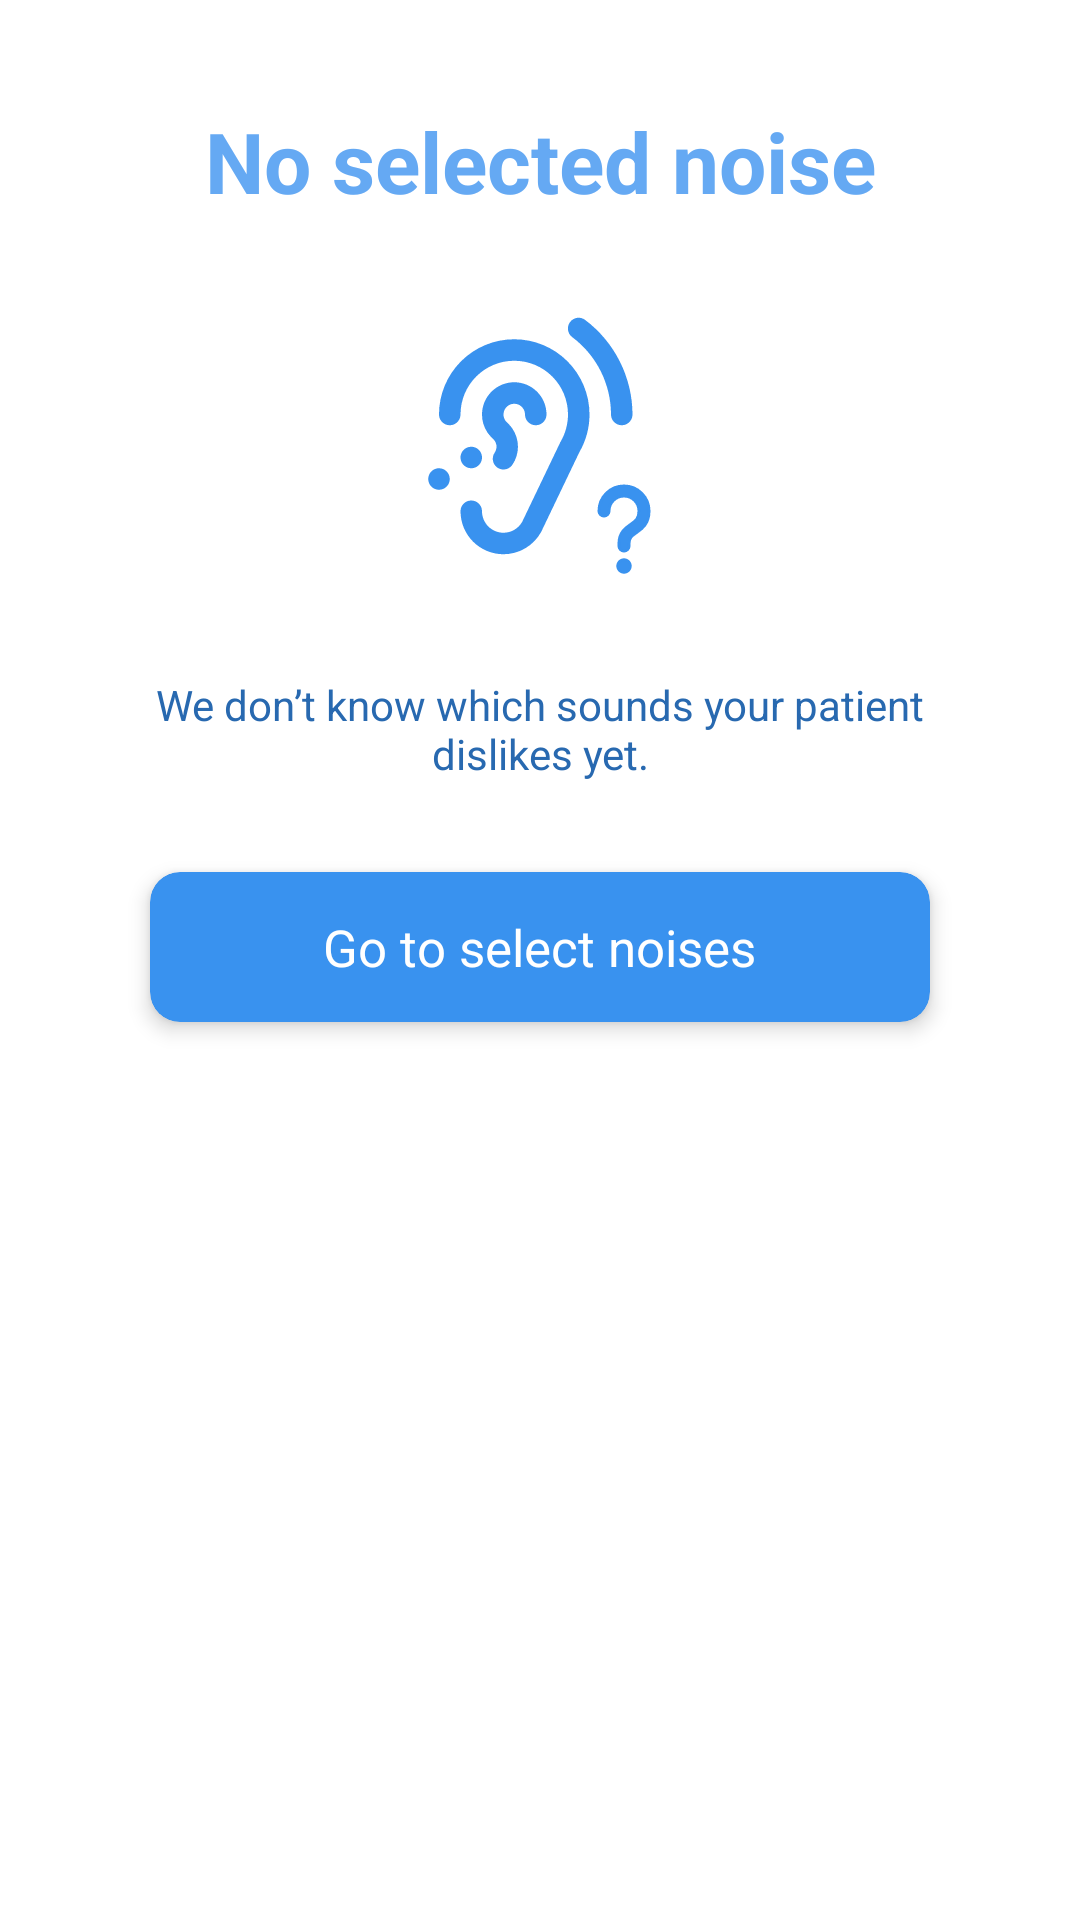

Where icons sit on this 1080*1920 app screen, as box(x1, y1, x2, y2):
ear: box(428, 317, 651, 574)
